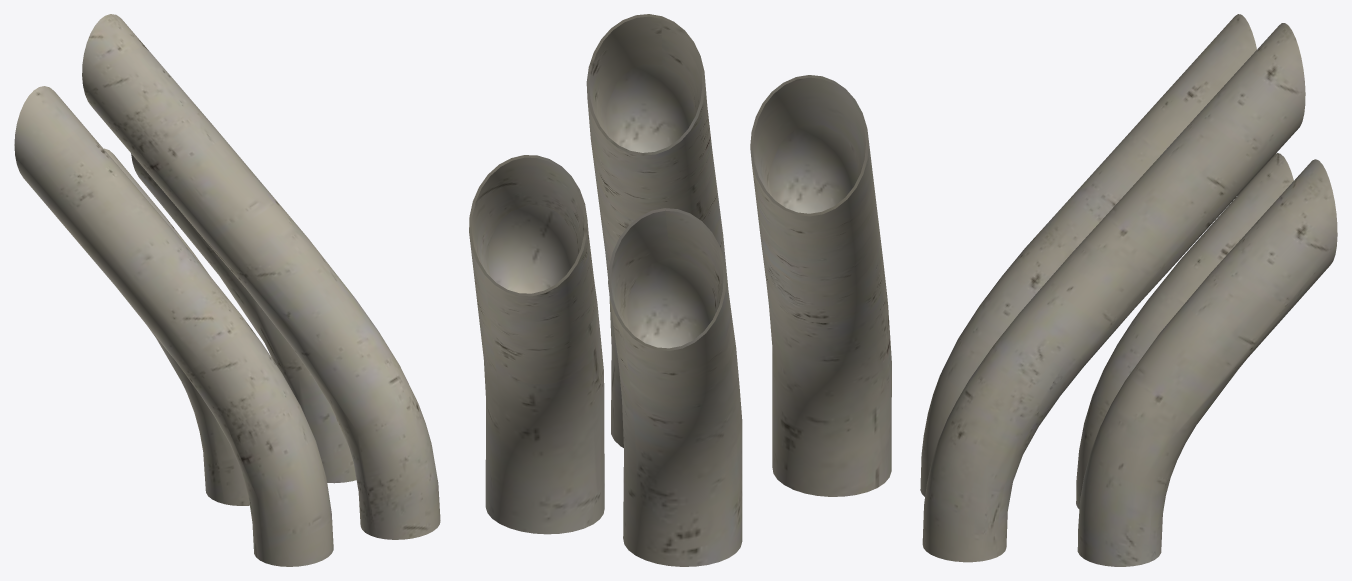
The model's file is ship_exhausts.glb.
3 views of the same model, side by side, from view 1: azimuth 30°, elevation 25°; view 2: azimuth 150°, elevation 25°; view 3: azimuth 270°, elevation 25° (orthographic). The views are drawn at different scales.
Parts seen in each view (by area): view 1: ship_exhausts; view 2: ship_exhausts; view 3: ship_exhausts.
Boxes of the visible parts, x1,y1,x2,y2 form: ship_exhausts: [14, 14, 440, 566]; ship_exhausts: [469, 14, 891, 566]; ship_exhausts: [920, 14, 1337, 566].
Size of the model in its own units: 2.19 by 2.96 by 2.48.
1 material, 1 textured.
